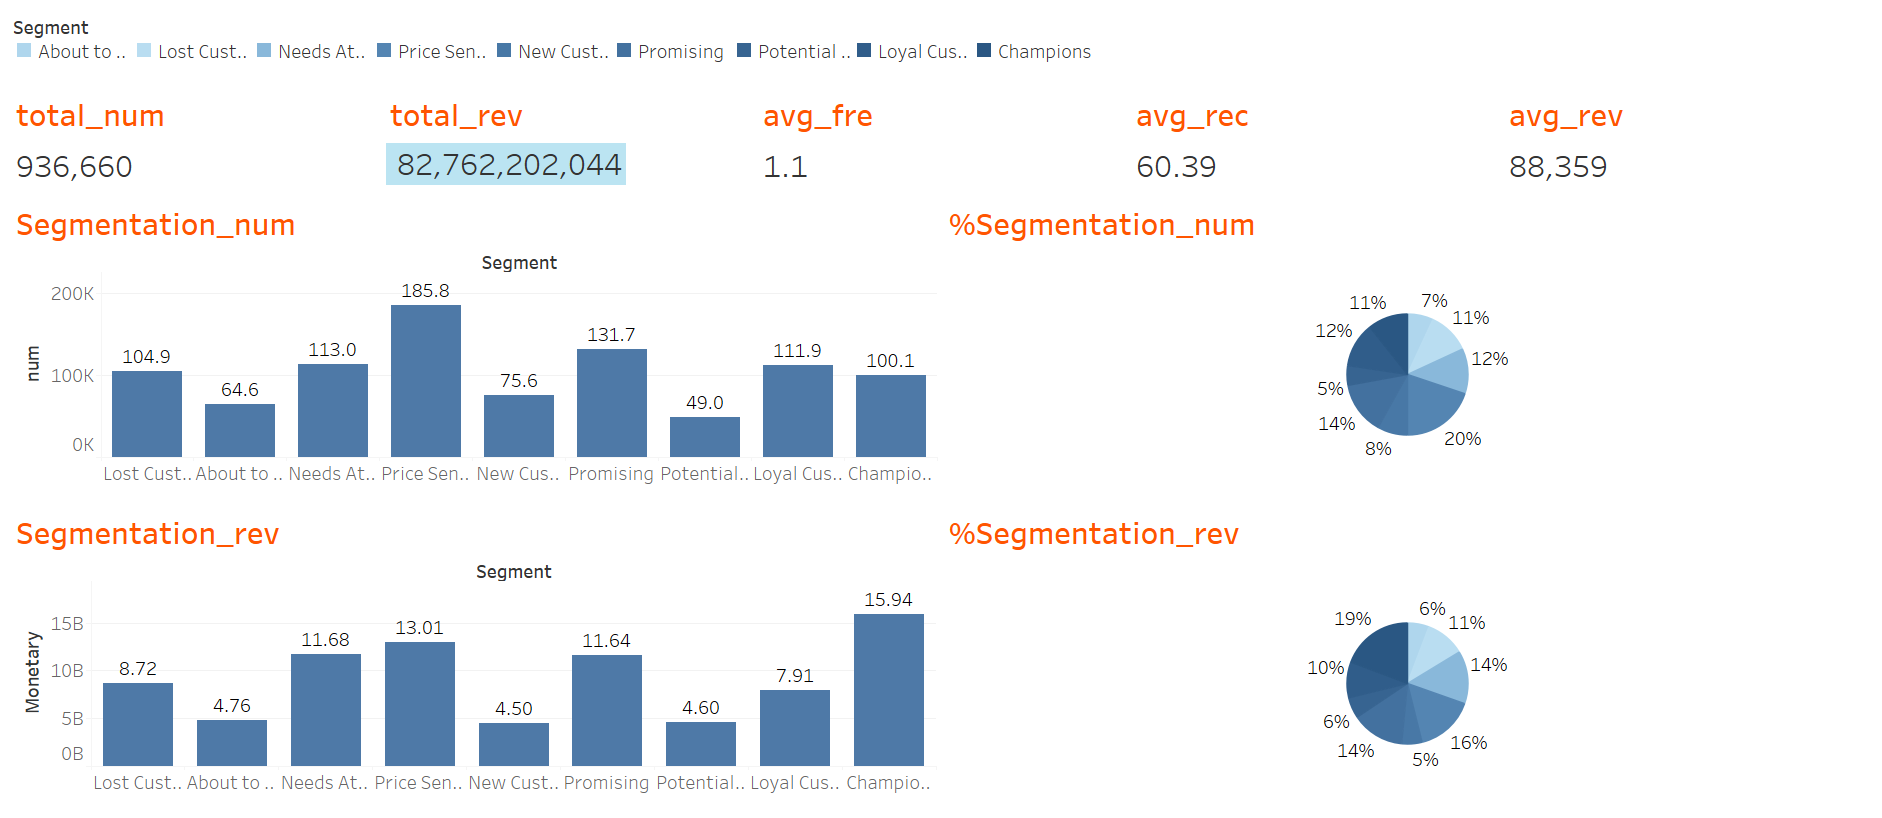

What the dashboard file says about the page in this screenshot:
{"tool":"tableau","page":{"name":"cs_dash","canvas":[1000,1000],"units":"permille","ordinal":0},"visuals":[{"type":"legend","title":"%Segmentation_num","param":"[federated.02nozxo1orw5by132gpi00x8krnr].[none:segment:nk]","box":[4.2,9.8,991.5,91.7]},{"type":"worksheet","title":"total_num","mark":"Automatic","box":[4.2,101.5,198.7,133.2]},{"type":"worksheet","title":"total_rev","mark":"Automatic","box":[203,101.5,198.2,133.2]},{"type":"worksheet","title":"avg_fre","mark":"Automatic","box":[401.2,101.5,198.2,133.2]},{"type":"worksheet","title":"avg_rec","mark":"Automatic","box":[599.4,101.5,198.2,133.2]},{"type":"worksheet","title":"avg_rev","mark":"Automatic","box":[797.6,101.5,198.2,133.2]},{"type":"worksheet","title":"Segmentation_num","mark":"Automatic","rows":["Calculation_1220475556345004034"],"cols":["segment"],"box":[4.2,234.5,495.8,377.9]},{"type":"worksheet","title":"%Segmentation_num","mark":"Pie","box":[500,234.5,495.8,377.9]},{"type":"worksheet","title":"Segmentation_rev","mark":"Automatic","rows":["monetary"],"cols":["segment"],"box":[4.2,612.3,495.8,377.9]},{"type":"worksheet","title":"%Segmentation_rev","mark":"Pie","box":[500,612.3,495.8,377.9]}]}

Visuals, with their boxes on the dashboard's canvas, which has no fixed pixel size, in thousandths of its width and height (x1, y1, x2, y2). These are canvas units, not pixel positions in the 1882x818 screenshot, which may show the page scaled, cropped or inside an application window:
"%Segmentation_num" legend: <bbox>4, 10, 996, 102</bbox>
"total_num" worksheet: <bbox>4, 102, 203, 235</bbox>
"total_rev" worksheet: <bbox>203, 102, 401, 235</bbox>
"avg_fre" worksheet: <bbox>401, 102, 599, 235</bbox>
"avg_rec" worksheet: <bbox>599, 102, 798, 235</bbox>
"avg_rev" worksheet: <bbox>798, 102, 996, 235</bbox>
"Segmentation_num" worksheet: <bbox>4, 234, 500, 612</bbox>
"%Segmentation_num" worksheet (Pie marks): <bbox>500, 234, 996, 612</bbox>
"Segmentation_rev" worksheet: <bbox>4, 612, 500, 990</bbox>
"%Segmentation_rev" worksheet (Pie marks): <bbox>500, 612, 996, 990</bbox>
